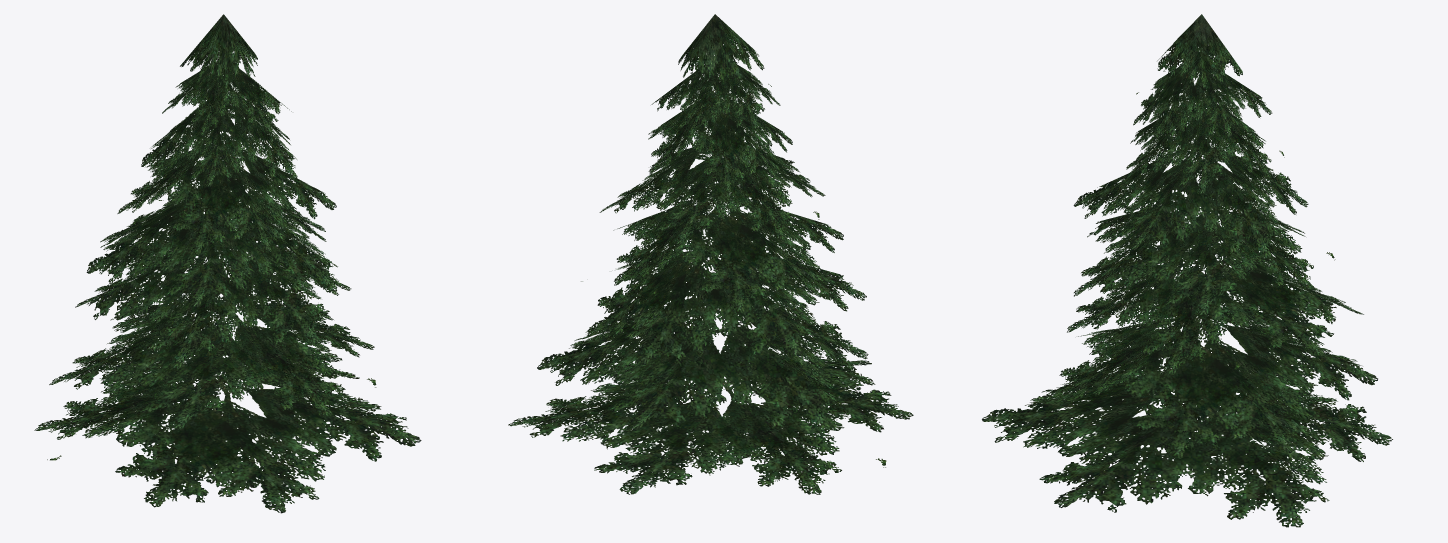
File: leaves.obj
3 views of the same model, side by side, from view 1: azimuth 30°, elevation 25°; view 2: azimuth 150°, elevation 25°; view 3: azimuth 270°, elevation 25° (orthographic). The views are drawn at different scales.
Parts seen in each view (by area): view 1: tree_pine_02.001_tree_pine_02-Geometry.001; view 2: tree_pine_02.001_tree_pine_02-Geometry.001; view 3: tree_pine_02.001_tree_pine_02-Geometry.001.
Boxes of the visible parts, x1=… form: tree_pine_02.001_tree_pine_02-Geometry.001: x1=34, y1=14, x2=421, y2=513; tree_pine_02.001_tree_pine_02-Geometry.001: x1=508, y1=14, x2=913, y2=494; tree_pine_02.001_tree_pine_02-Geometry.001: x1=982, y1=14, x2=1392, y2=527.
Bounding box in the file's own units: 16.57 × 17.51 × 17.37.
1 material, 1 textured.
